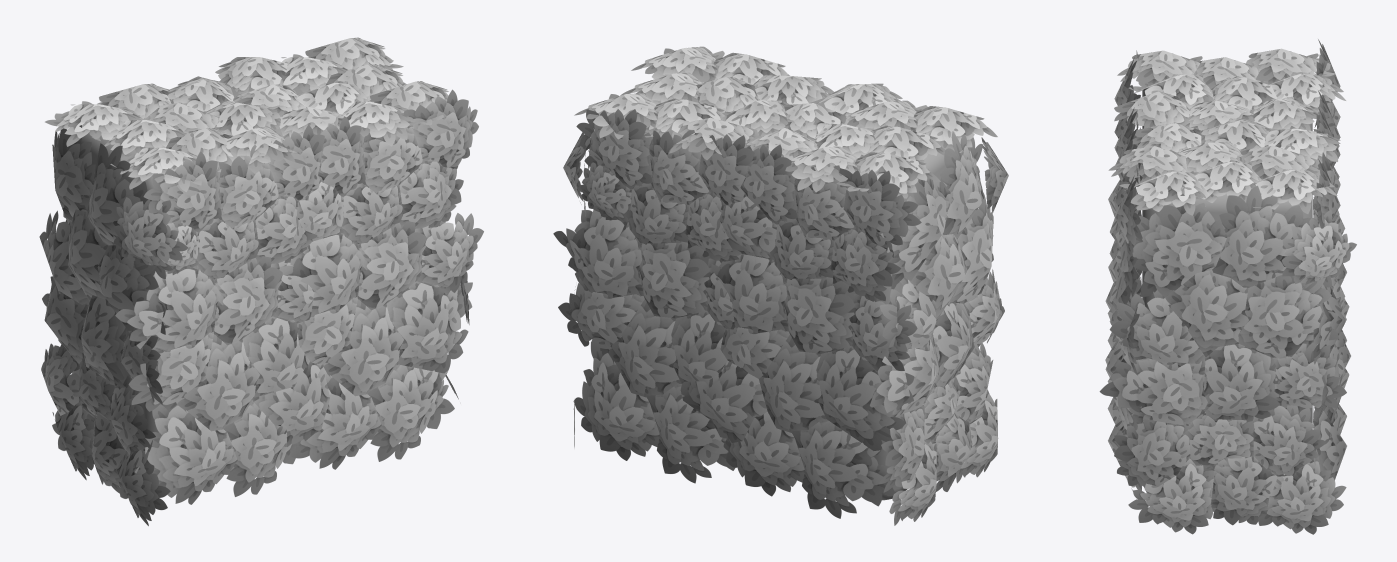
The model's file is pl_hedge.glb.
The picture shows the model from 3 angles, left to right: view 1: azimuth 30°, elevation 25°; view 2: azimuth 150°, elevation 25°; view 3: azimuth 270°, elevation 25°; orthographic projection. The views are drawn at different scales.
Parts seen in each view (by area): view 1: tree; view 2: tree; view 3: tree.
Boxes of the visible parts, x1,y1,x2,y2 form: tree: [39, 37, 483, 525]; tree: [553, 46, 1008, 525]; tree: [1099, 39, 1356, 534].
Size of the model in its own units: 1.11 by 1 by 0.729.
1 material, 1 textured.
